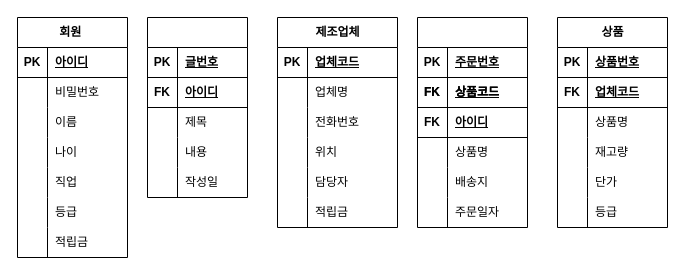
The diagram is 685 pixels wide and 275 high, and some of its shapes have lost their labels. The box of each missing label's shape, as (x1, y1, x2, y2) in pixels:
게시글: (146, 16, 248, 198)
주문: (416, 16, 528, 228)
